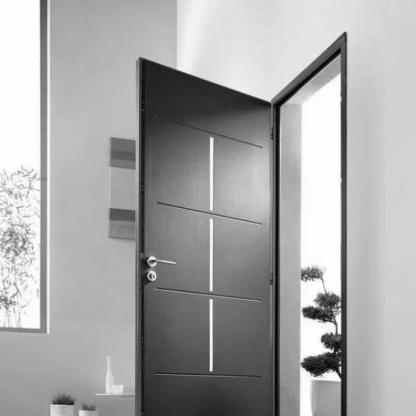door: (127, 25, 360, 414)
